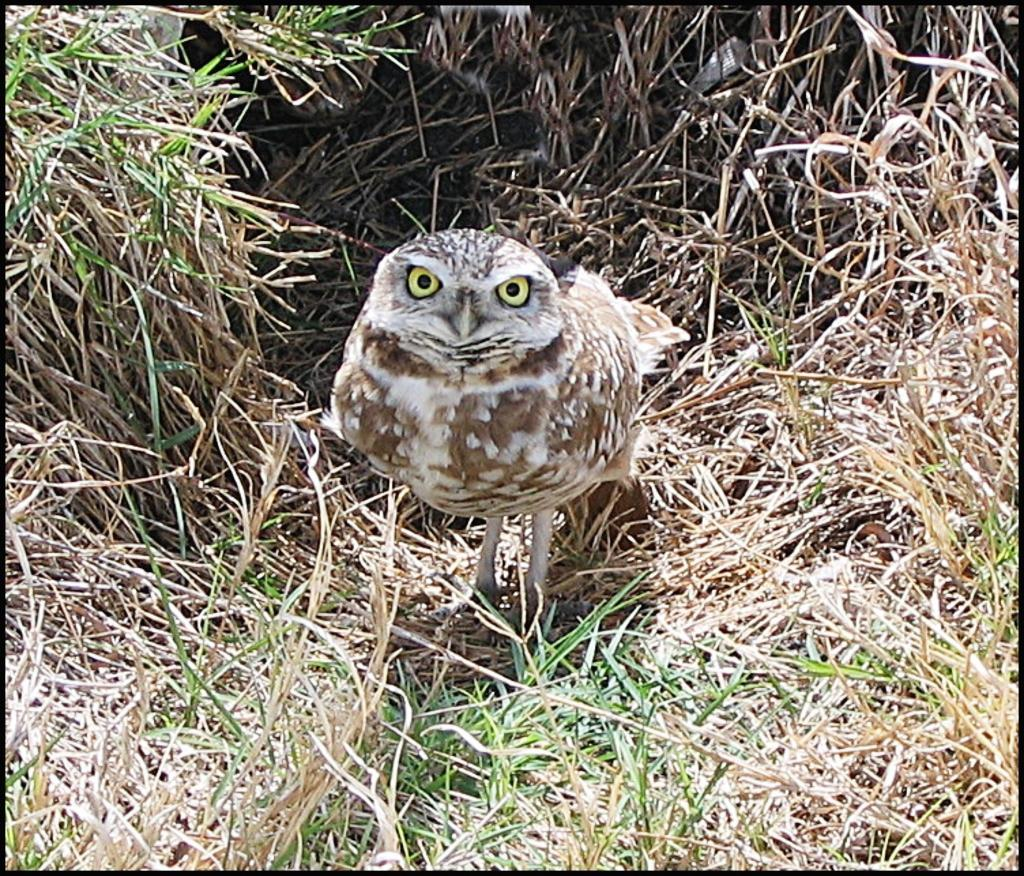Owl: (328, 218, 690, 636)
